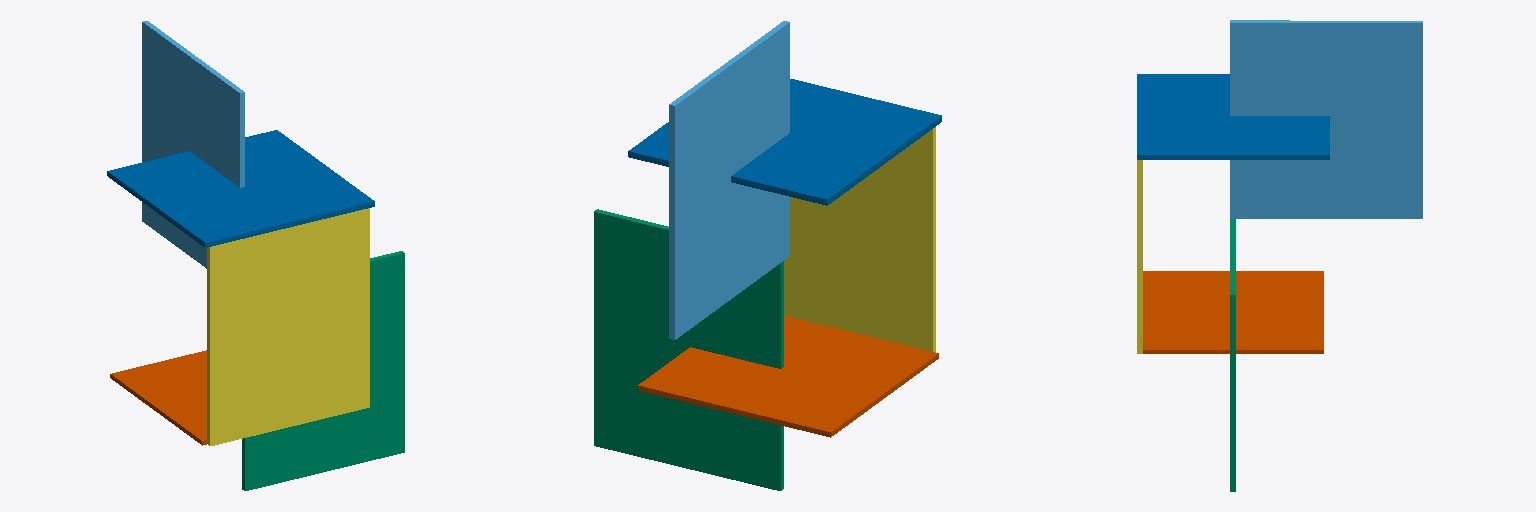
The robot description file, URDF, robot "elevator":
<?xml version="1.0" ?>
<robot name="elevator">  
<link name="world"/>
<joint name="elevator_joint" type="prismatic">
    <axis xyz="0 0 1"/>
    <parent link="world"/>
    <origin rpy="0 0 0" xyz="0 0 0"/>
    <limit effort="100.0" lower="0" upper="2.25" velocity="5"/>
    <child link="elevator_5"/>
    <dynamics damping="10" friction="1000"/>
  </joint>
  <link name="elevator_1">
     <inertial>
      <origin xyz="0 0 0" rpy="0 0 0" /> 
      <mass value="10.0" />
      <inertia  ixx="1.0" ixy="0.0"  ixz="0.0"  iyy="1.0"  iyz="0.0"  izz="1.0" />
    </inertial>
    <visual>
     <origin xyz="0 0 1.125" rpy="0 0 1.57" /> 
      <geometry>
        <box size="2 0.06 2.25" />
      </geometry>
    </visual>
    <collision>
      <origin xyz="0 0 1.125" rpy="0 0 1.57" /> 
      <geometry>
        <box size="2 0.06 2.25" />
      </geometry>
    </collision>
  </link>
  <joint name="e5_e1" type="fixed">
    <axis xyz="0 0 1"/>
    <origin rpy="0 0 0" xyz="-.97 .97 1.125"/>
    <parent link="elevator_5"/>
    <child link="elevator_1"/>
  </joint>  
  <link name="elevator_2">
     <inertial>
      <origin xyz="0 0 0" rpy="0 0 0" /> 
      <mass value="0.0" />
      <inertia  ixx="1.0" ixy="0.0"  ixz="0.0"  iyy="1.0"  iyz="0.0"  izz="1.0" />
    </inertial>
    <visual>
     <origin xyz="0 0 0" rpy="0 0 0" /> 
      <geometry>
        <box size="1.88 0.06 2.25" />
      </geometry>
    </visual>
    <collision>
      <origin xyz="0 0 0" rpy="0 0 0" /> 
      <geometry>
        <box size="1.88 0.06 2.25" />
      </geometry>
    </collision>
  </link>
  <joint name="e5_e2" type="fixed">
    <axis xyz="0 0 1"/>
    <parent link="elevator_5"/>
    <child link="elevator_2"/>
  </joint> 
  <link name="elevator_3">
     <inertial>
      <origin xyz="0 0 0" rpy="0 0 0" /> 
      <mass value="10.0" />
      <inertia  ixx="1.0" ixy="0.0"  ixz="0.0"  iyy="1.0"  iyz="0.0"  izz="1.0" />
    </inertial>
    <visual>
     <origin xyz="-.97 -.97 1.125" rpy="0 0 0" /> 
      <geometry>
        <box size="1.88 0.06 2.25" />
      </geometry>
    </visual>
    <collision>
      <origin xyz="-.97 -.97 1.125" rpy="0 0 0" /> 
      <geometry>
        <box size="1.88 0.06 2.25" />
      </geometry>
    </collision>
  </link>
  <joint name="e5_e3" type="fixed">
    <axis xyz="0 0 1"/>
    <parent link="elevator_5"/>
    <child link="elevator_3"/>
  </joint>  
  <link name="elevator_4">
     <inertial>
      <origin xyz="0 0 0" rpy="0 0 0" /> 
      <mass value="10.0" />
      <inertia  ixx="1.0" ixy="0.0"  ixz="0.0"  iyy="1.0"  iyz="0.0"  izz="1.0" />
    </inertial>
    <visual>
     <origin xyz="-.97 0 2.28" rpy="0 0 0" /> 
      <geometry>
        <box size="2 2 .06" />
      </geometry>
    </visual>
    <collision>
      <origin xyz="-.97 0 2.28" rpy="0 0 0" /> 
      <geometry>
        <box size="2 2 .06" />
      </geometry>
    </collision>
  </link>
  <joint name="e5_e4" type="fixed">
    <axis xyz="0 0 1"/>
    <parent link="elevator_5"/>
    <child link="elevator_4"/>
  </joint>  
  <link name="elevator_5">
     <inertial>
      <origin xyz="0 0 0" rpy="0 0 0" /> 
      <mass value="10.0" />
      <inertia  ixx="1.0" ixy="0.0"  ixz="0.0"  iyy="100.0"  iyz="0.0"  izz="1.0" />
    </inertial>
    <visual>
     <origin xyz="-1 0 .025" rpy="0 0 0" /> 
      <geometry>
        <box size="1.94 1.88 0.05" />
      </geometry>
    </visual>
    <collision>
      <origin xyz="-1 0 .025" rpy="0 0 0" /> 
      <geometry>
        <box size="1.94 1.88 0.05" />
      </geometry>
    </collision>
  </link>-->
  <gazebo reference="elevator_1">
    <material>Gazebo/CeilingTiled</material>
  </gazebo>  
      <gazebo reference="elevator_2">
    <material>Gazebo/CeilingTiled</material>
    </gazebo> 
    <gazebo reference="elevator_3">
    <material>Gazebo/CeilingTiled</material>
    </gazebo> 
    <gazebo reference="elevator_4">
    <material>Gazebo/CeilingTiled</material>
    </gazebo>
    <gazebo reference="elevator_5">
    <material>Gazebo/CeilingTiled</material>
    <dampingFactor>0.005</dampingFactor>
    <selfCollide>true</selfCollide>
    <turnGravityOff>true</turnGravityOff>
    </gazebo> 
</robot>

--- Facts derived from the render (not from the file) ---
Views: 3 orthographic renders of the robot side by side, from view 1: azimuth 30°, elevation 25°; view 2: azimuth 150°, elevation 25°; view 3: azimuth 270°, elevation 25°.
Model elevator with 6 links and 5 joints (1 prismatic, 4 fixed), rooted at world, posed all joints at 0.
Visible links, largest first — view 1: elevator_3, elevator_4, elevator_2, elevator_1, elevator_5; view 2: elevator_2, elevator_1, elevator_3, elevator_5, elevator_4; view 3: elevator_1, elevator_5, elevator_4, elevator_2, elevator_3.
Link boxes in pixels (bbox=[...]): elevator_3: bbox=[207, 208, 369, 445]; elevator_4: bbox=[107, 130, 374, 247]; elevator_2: bbox=[242, 251, 404, 490]; elevator_1: bbox=[142, 21, 244, 268]; elevator_5: bbox=[110, 350, 206, 445]; elevator_2: bbox=[594, 209, 783, 490]; elevator_1: bbox=[669, 21, 789, 339]; elevator_3: bbox=[784, 127, 935, 352]; elevator_5: bbox=[638, 316, 938, 437]; elevator_4: bbox=[628, 79, 941, 205]; elevator_1: bbox=[1230, 20, 1422, 218]; elevator_5: bbox=[1143, 271, 1323, 353]; elevator_4: bbox=[1137, 74, 1329, 159]; elevator_2: bbox=[1230, 219, 1235, 491]; elevator_3: bbox=[1137, 160, 1142, 353].
Size in the robot's own frame: 2.91 by 2.97 by 4.5 metres.
Geometry: primitives only (box / cylinder / sphere), no mesh files.